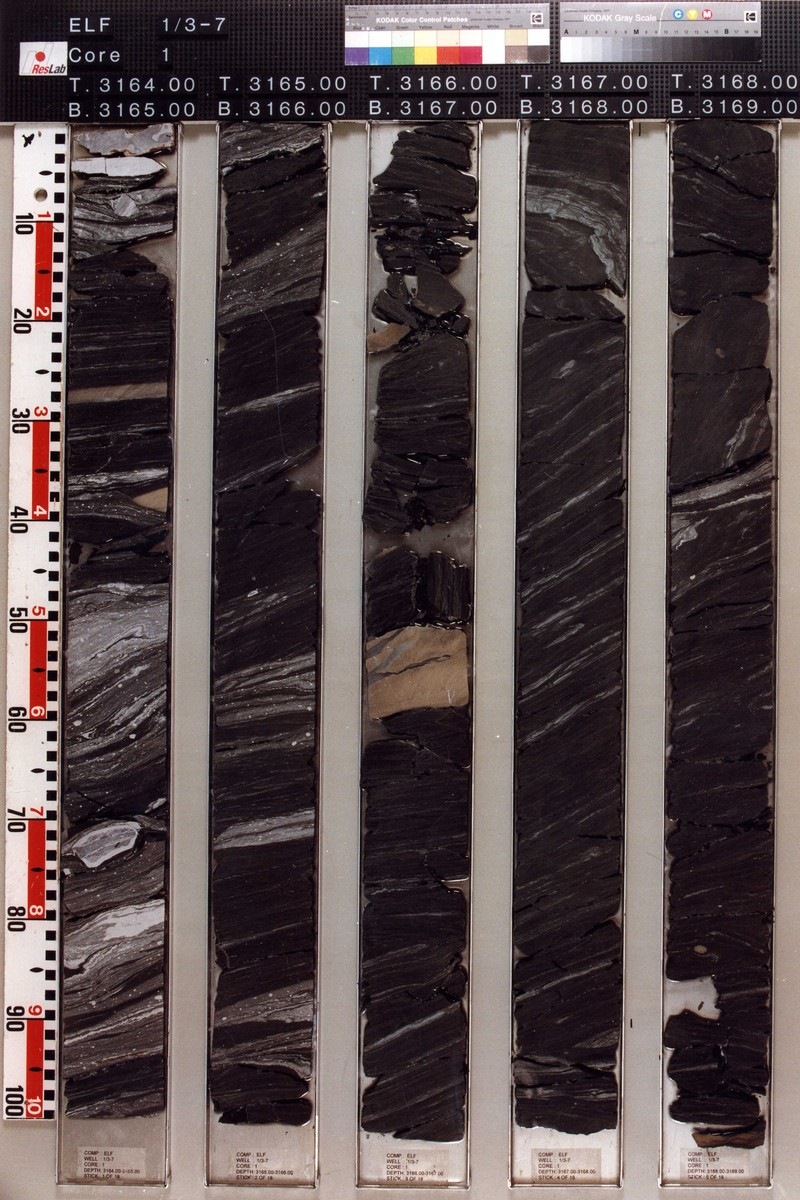core: (358, 126, 482, 1141), (510, 127, 631, 1136), (209, 127, 330, 1132), (662, 120, 779, 1154), (65, 122, 176, 1124)
